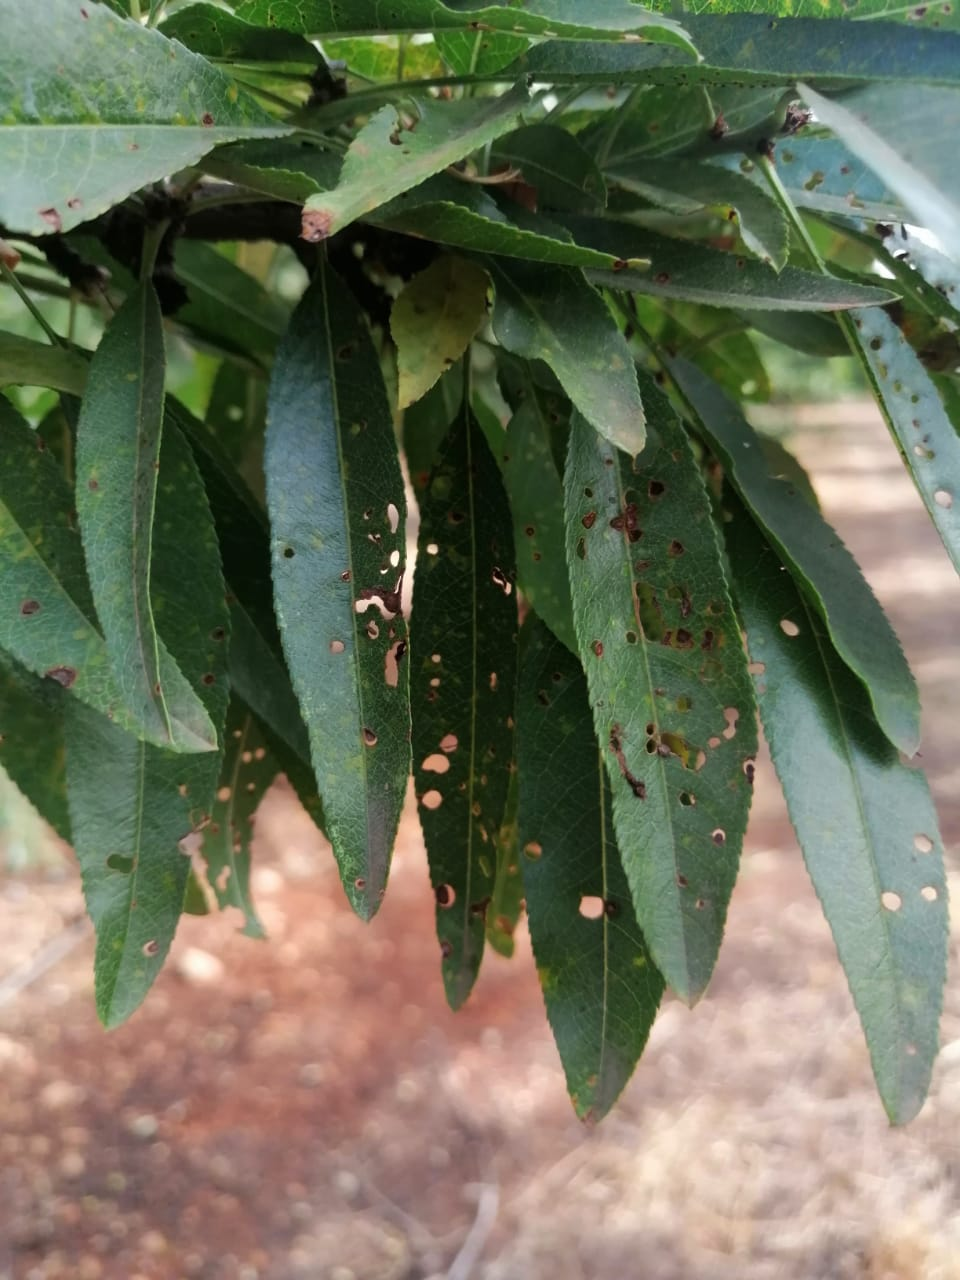coryneum: (560, 364, 764, 1014), (260, 273, 407, 925), (1, 388, 222, 756), (415, 406, 522, 1023), (72, 287, 179, 750), (298, 88, 530, 245), (845, 303, 960, 571)
